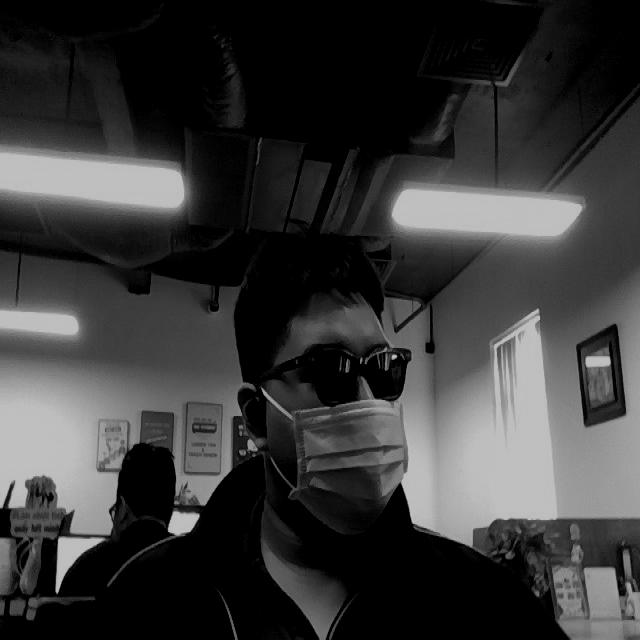fake: (288, 403, 413, 522), (255, 342, 415, 402)
